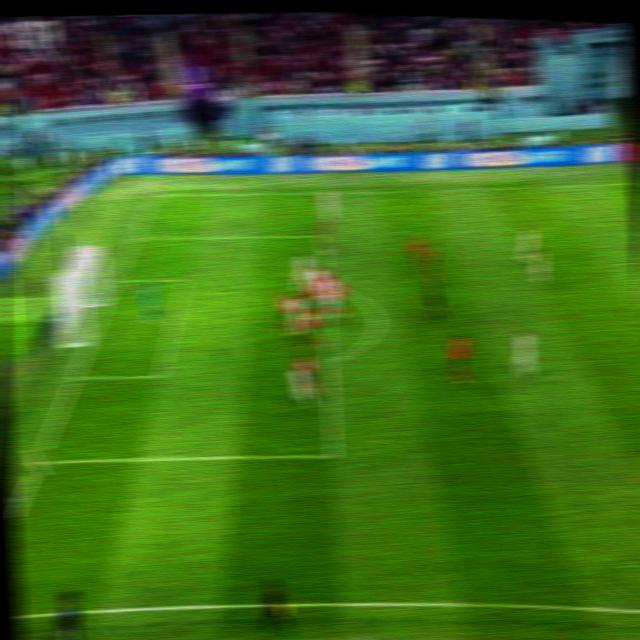bigarea_bottom_inner: (322, 446, 343, 466)
bigarea_bottom_outter: (24, 448, 50, 476)
bigarea_top_inner: (315, 232, 327, 244)
bigarea_top_outter: (125, 230, 145, 245)
bottom_arc_area_intersection: (320, 353, 338, 370)
corner: (145, 189, 161, 203)
smallarea_bottom_inner: (147, 360, 173, 389)
smallarea_bottom_outter: (62, 365, 85, 390)
smallarea_top_inner: (174, 269, 195, 293)
smallarea_top_outter: (105, 271, 126, 291)
